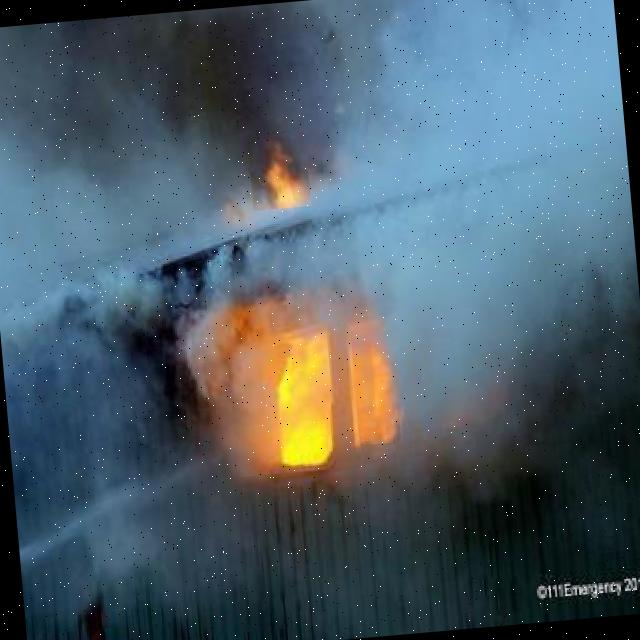fire: (228, 321, 362, 476), (247, 137, 311, 210)
